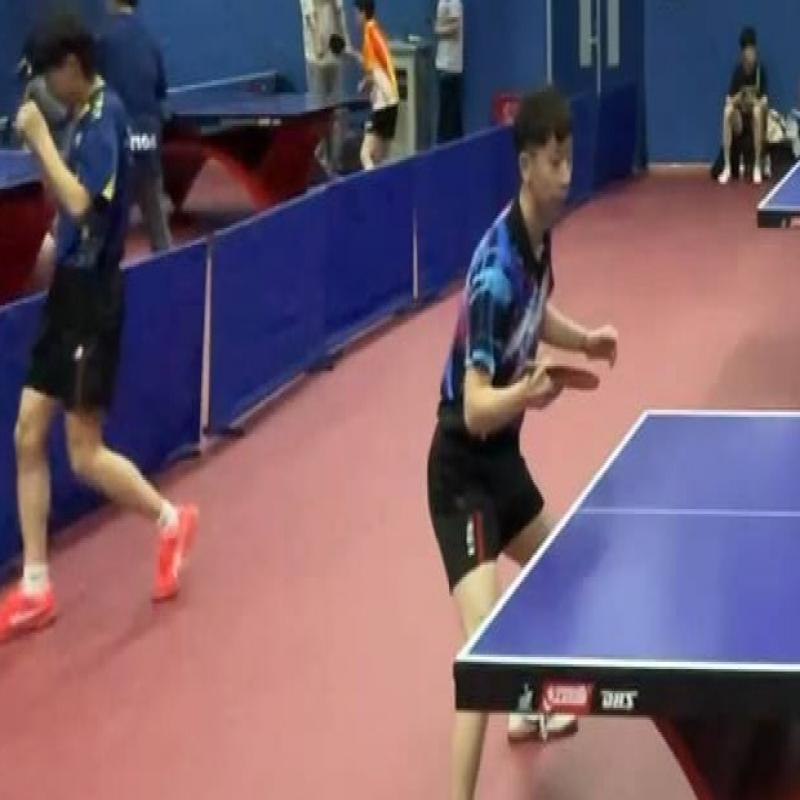bats: (524, 342, 608, 419)
